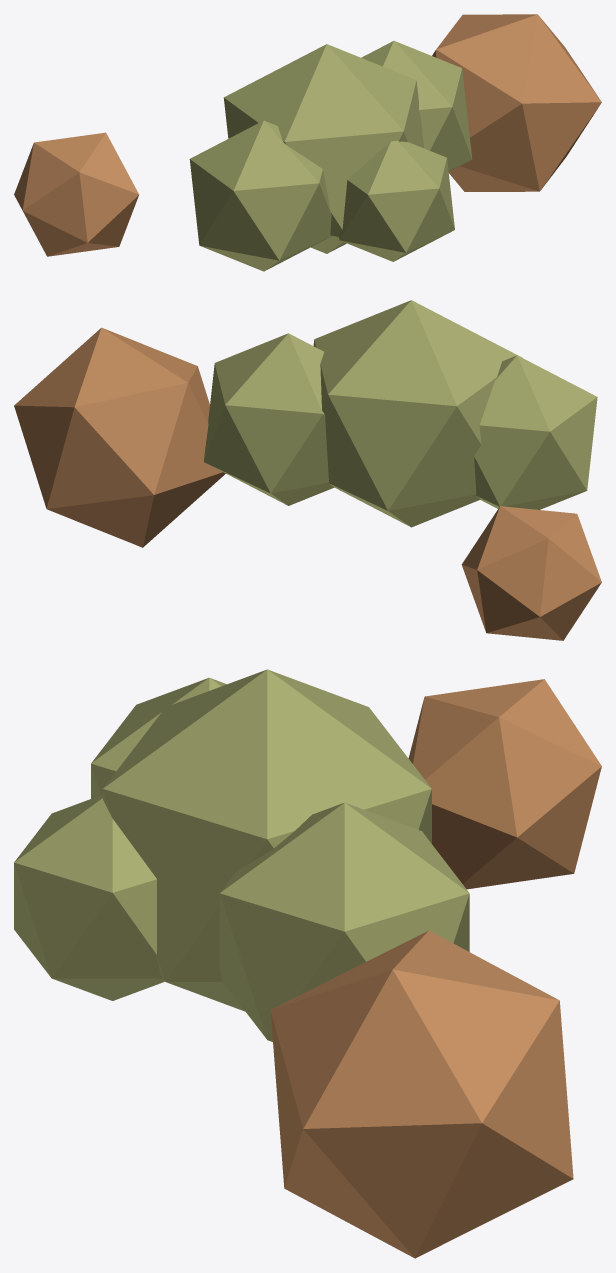
File: journey_shrub.glb
3 views of the same model, one above another, from view 1: azimuth 30°, elevation 25°; view 2: azimuth 150°, elevation 25°; view 3: azimuth 270°, elevation 25° (orthographic). The views are drawn at different scales.
Parts seen in each view (by area): view 1: Shrub_body; view 2: Shrub_body; view 3: Shrub_body.
Part boxes in pixels (box(x1,y1,x2,y2)): Shrub_body: box(14, 14, 601, 271); Shrub_body: box(14, 300, 601, 640); Shrub_body: box(14, 669, 601, 1258).
Bounding box in the file's own units: 2.7 × 1.12 × 1.52.
